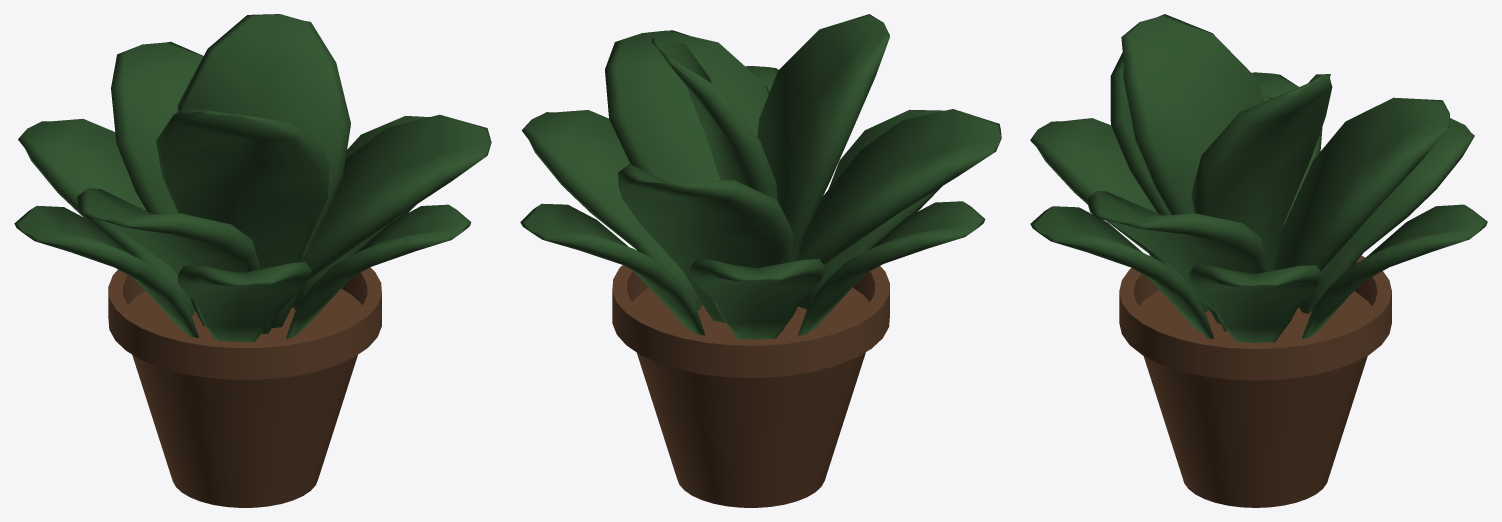
File: plantSucc.fbx
The picture shows the model from 3 angles, left to right: view 1: azimuth 30°, elevation 25°; view 2: azimuth 150°, elevation 25°; view 3: azimuth 270°, elevation 25°; orthographic projection. The views are drawn at different scales.
Parts seen in each view (by area): view 1: Circle, Plane.010, Plane.009, Plane.007, Plane.006, Plane.001, Plane.008, Plane.004, Plane.005, Plane, Plane.003; view 2: Circle, Plane.010, Plane.007, Plane.008, Plane.006, Plane.003, Plane.001, Plane.009, Plane, Plane.002, Plane.004; view 3: Circle, Plane.010, Plane.006, Plane.009, Plane.007, Plane.003, Plane.004, Plane.002, Plane.001, Plane.005, Plane.008, Plane.
Part boxes in pixels (x1,y1,x2,y2): Circle: [108, 267, 381, 507]; Plane.010: [156, 107, 329, 331]; Plane.009: [177, 14, 350, 327]; Plane.007: [270, 114, 491, 322]; Plane.006: [111, 41, 204, 325]; Plane.001: [18, 119, 195, 315]; Plane.008: [77, 188, 269, 333]; Plane.004: [177, 261, 311, 341]; Plane.005: [286, 204, 471, 338]; Plane: [14, 205, 198, 337]; Plane.003: [292, 116, 429, 310]; Circle: [612, 265, 889, 507]; Plane.010: [757, 14, 889, 261]; Plane.007: [605, 30, 769, 183]; Plane.008: [797, 109, 1001, 264]; Plane.006: [618, 164, 793, 330]; Plane.003: [521, 110, 702, 309]; Plane.001: [689, 258, 825, 339]; Plane.009: [652, 38, 777, 199]; Plane: [798, 201, 985, 335]; Plane.002: [520, 203, 705, 335]; Plane.004: [798, 109, 944, 309]; Circle: [1119, 255, 1391, 507]; Plane.010: [1121, 14, 1264, 324]; Plane.006: [1274, 97, 1449, 270]; Plane.009: [1191, 74, 1332, 331]; Plane.007: [1086, 191, 1268, 311]; Plane.003: [1188, 265, 1322, 342]; Plane.004: [1030, 118, 1209, 311]; Plane.002: [1301, 204, 1487, 338]; Plane.001: [1298, 118, 1474, 313]; Plane.005: [1030, 206, 1213, 338]; Plane.008: [1110, 52, 1271, 323]; Plane: [1251, 72, 1322, 226].
Bounding box in the file's own units: 388 × 360 × 352.
